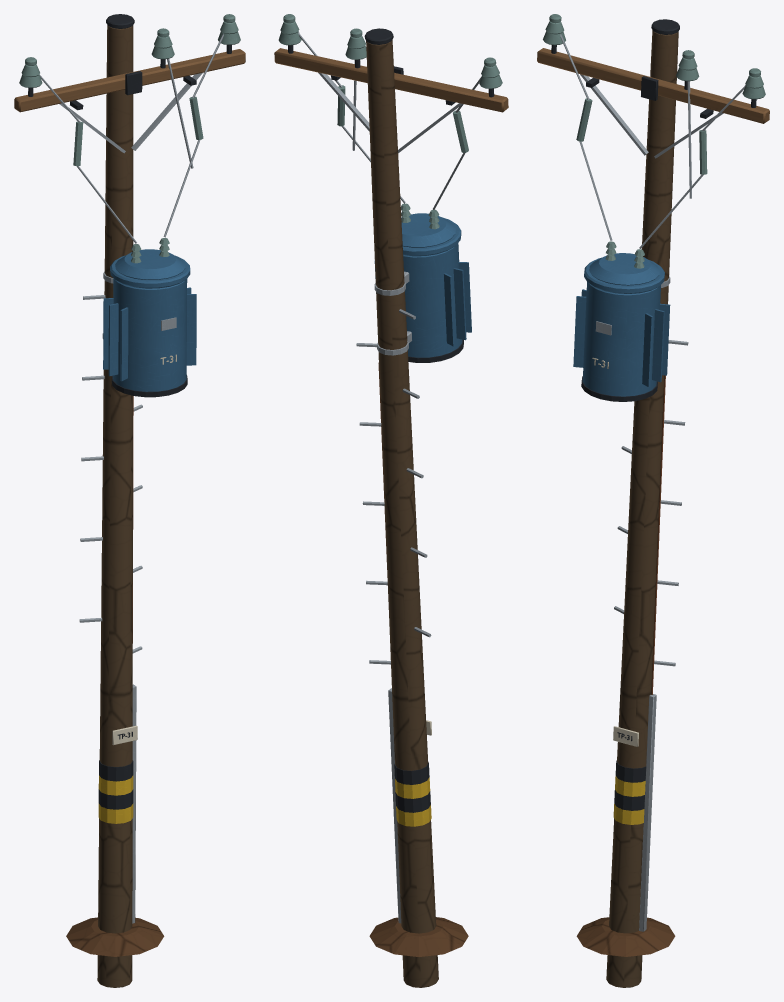
The model's file is transformer_pole.glb.
3 renders of one model, left to right at view 1: azimuth 30°, elevation 25°; view 2: azimuth 150°, elevation 25°; view 3: azimuth 330°, elevation 25°, orthographic.
Visible parts, largest first — view 1: transformer_pole.001; view 2: transformer_pole.001; view 3: transformer_pole.001.
Part boxes in pixels (box(x1,y1,x2,y2)): transformer_pole.001: box(14, 14, 245, 987); transformer_pole.001: box(274, 14, 508, 987); transformer_pole.001: box(537, 14, 769, 987).
Size of the model in its own units: 2.4 by 9.55 by 1.18.
Materials: 14 (14 with a texture image).
